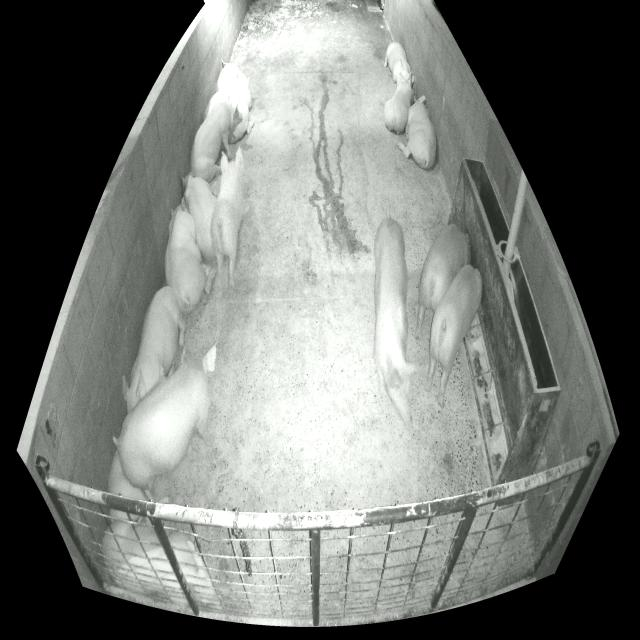pig: (113, 341, 217, 501), (103, 519, 215, 609), (374, 218, 421, 429), (424, 265, 482, 408), (122, 287, 185, 412), (415, 225, 468, 340), (190, 91, 243, 184), (211, 147, 244, 287), (165, 198, 205, 313), (216, 60, 255, 143), (182, 172, 217, 260), (397, 95, 436, 169), (108, 451, 149, 501), (384, 72, 414, 133), (384, 42, 411, 86), (204, 92, 228, 119)
